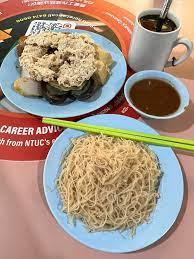Braised Crucian Carp: (41, 113, 185, 251), (0, 28, 127, 117)
